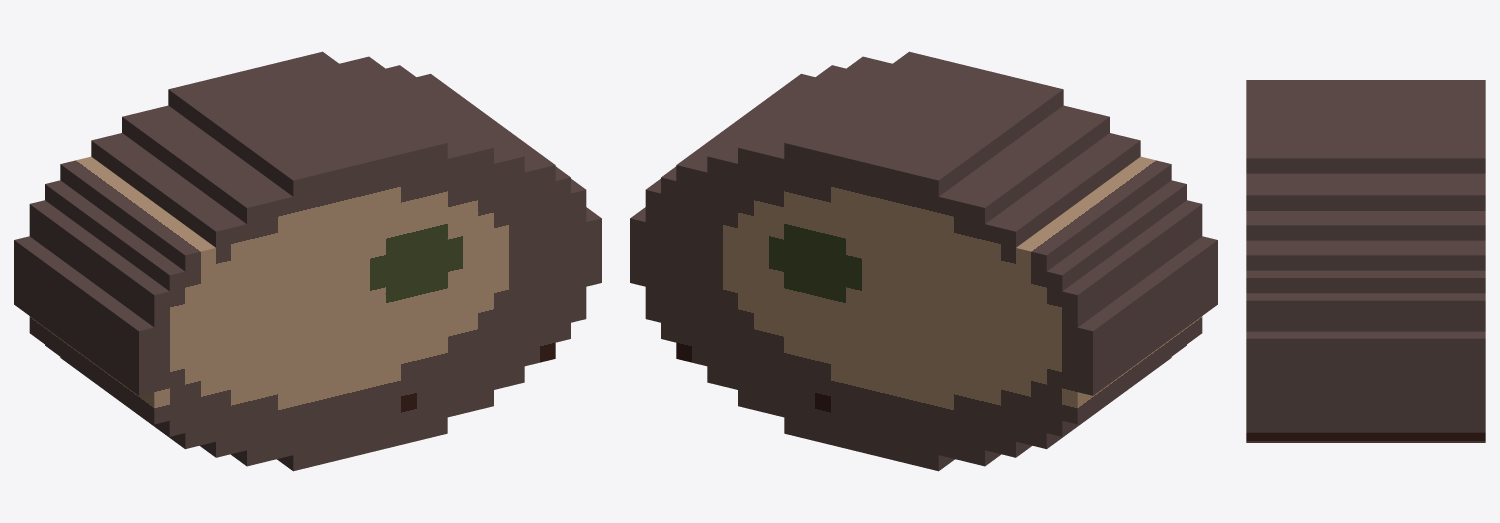
The model's file is rock_1.glb.
3 renders of one model, left to right at view 1: azimuth 30°, elevation 25°; view 2: azimuth 150°, elevation 25°; view 3: azimuth 270°, elevation 25°, orthographic. The views are drawn at different scales.
Parts seen in each view (by area): view 1: rock_1; view 2: rock_1; view 3: rock_1.
Part boxes in pixels (box(x1,y1,x2,y2)): rock_1: box(14, 51, 601, 471); rock_1: box(630, 51, 1217, 471); rock_1: box(1246, 80, 1485, 442).
Size of the model in its own units: 30 by 18 by 14.
1 material, 1 textured.
